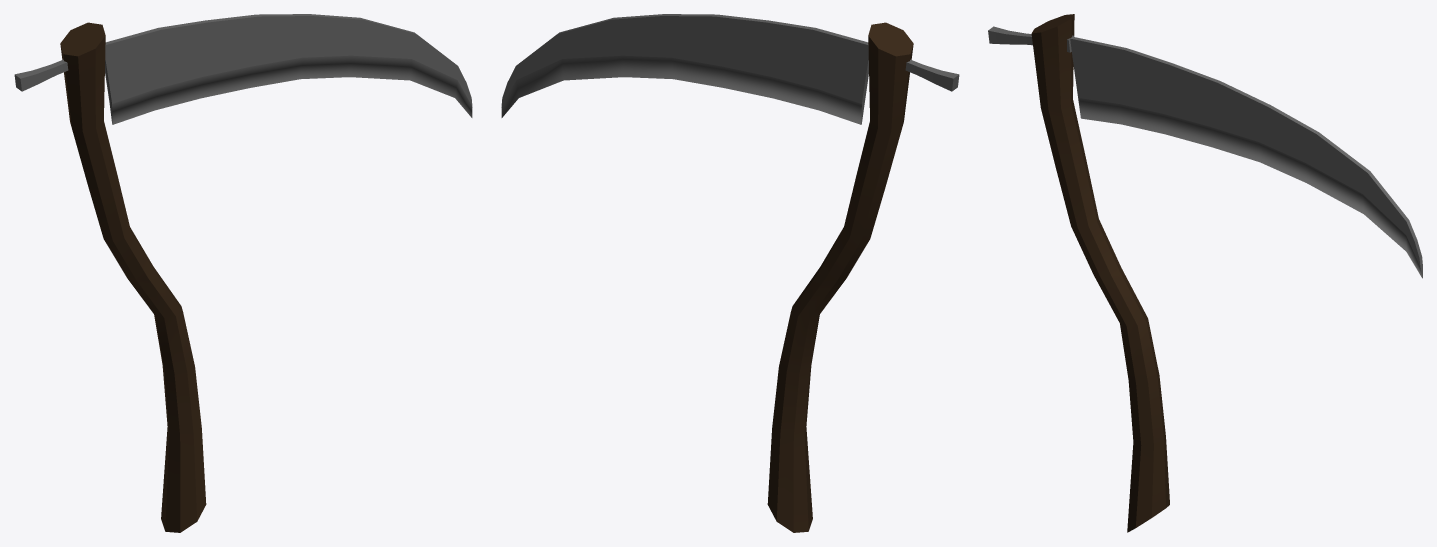
Rendered from low poly scythe.fbx.
3 renders of one model, left to right at view 1: azimuth 30°, elevation 25°; view 2: azimuth 150°, elevation 25°; view 3: azimuth 330°, elevation 25°, orthographic. The views are drawn at different scales.
Parts seen in each view (by area): view 1: scyth; view 2: scyth; view 3: scyth.
Part boxes in pixels (left/top/right/bottom): scyth: left=14, top=14, right=472, bottom=532; scyth: left=501, top=14, right=959, bottom=532; scyth: left=988, top=14, right=1422, bottom=532.
Size of the model in its own units: 19.99 by 21.94 by 2.08.
